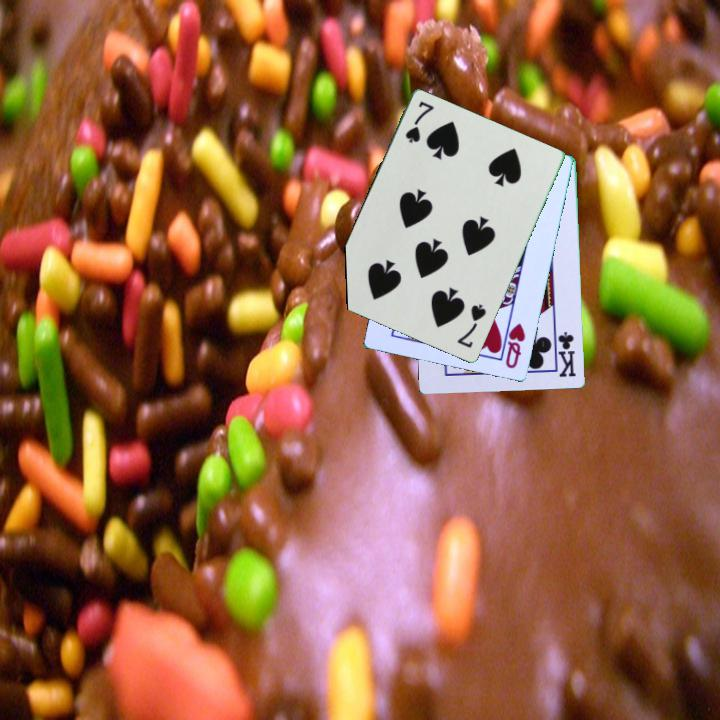7s: (454, 301, 489, 351), (402, 98, 437, 146)
Kc: (555, 328, 579, 380)
Qh: (502, 320, 528, 372)
